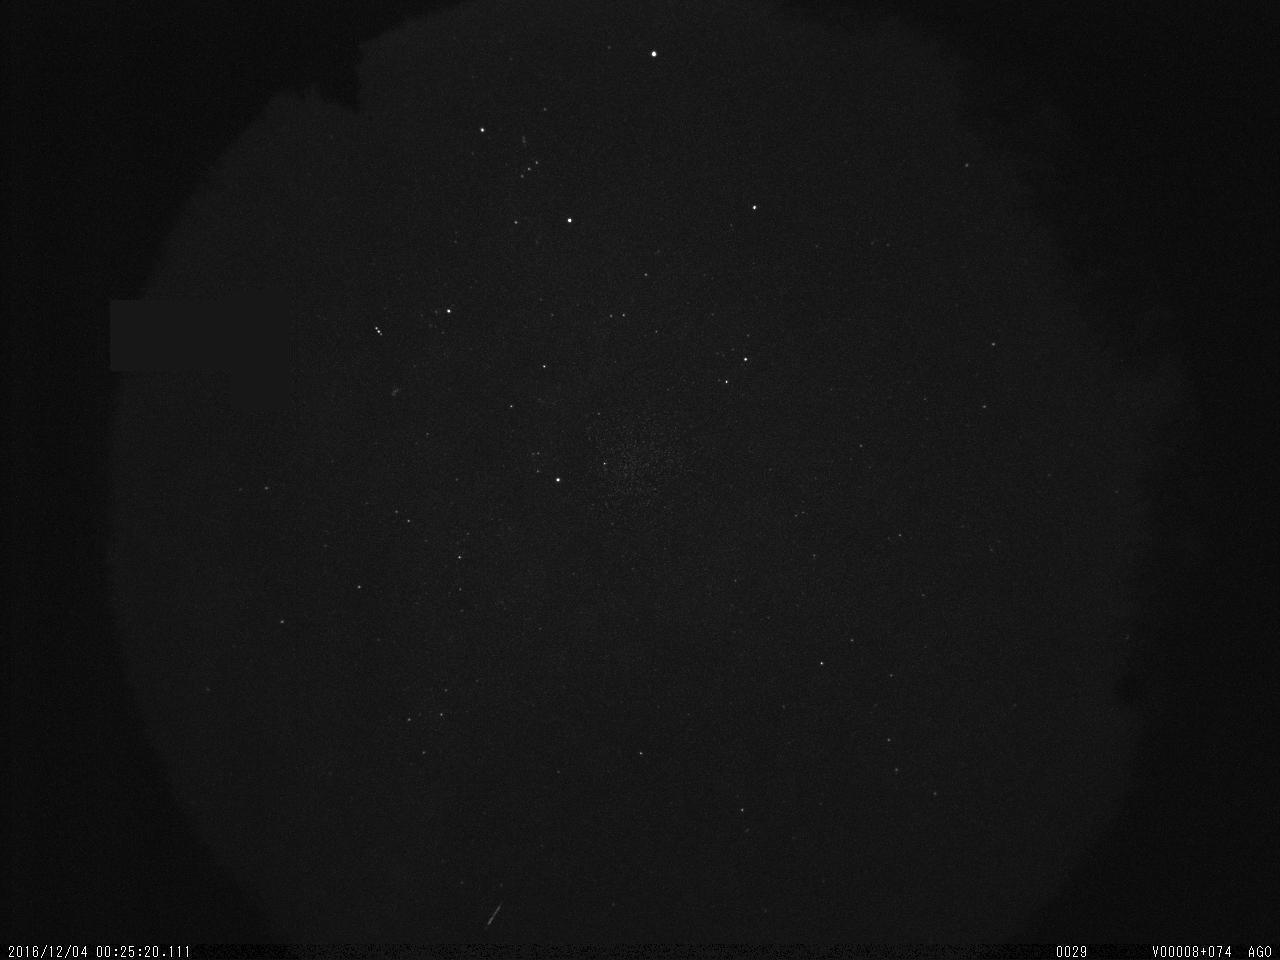Meteor: (486, 896, 506, 930)
